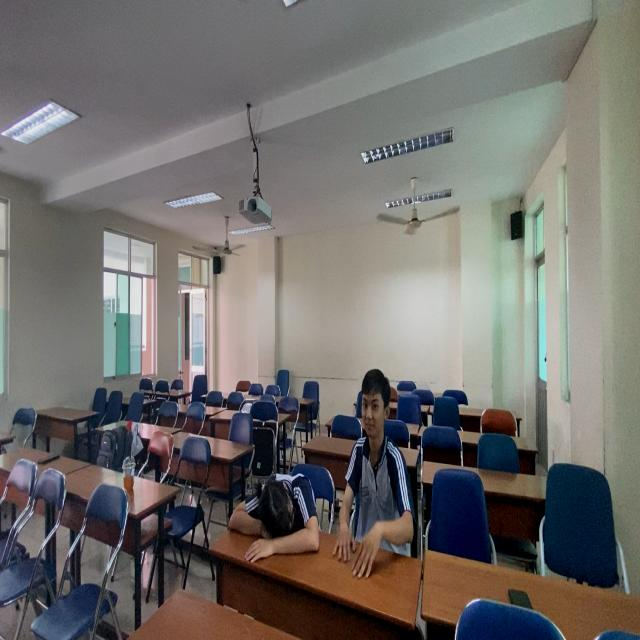sleep: (229, 458, 324, 574)
